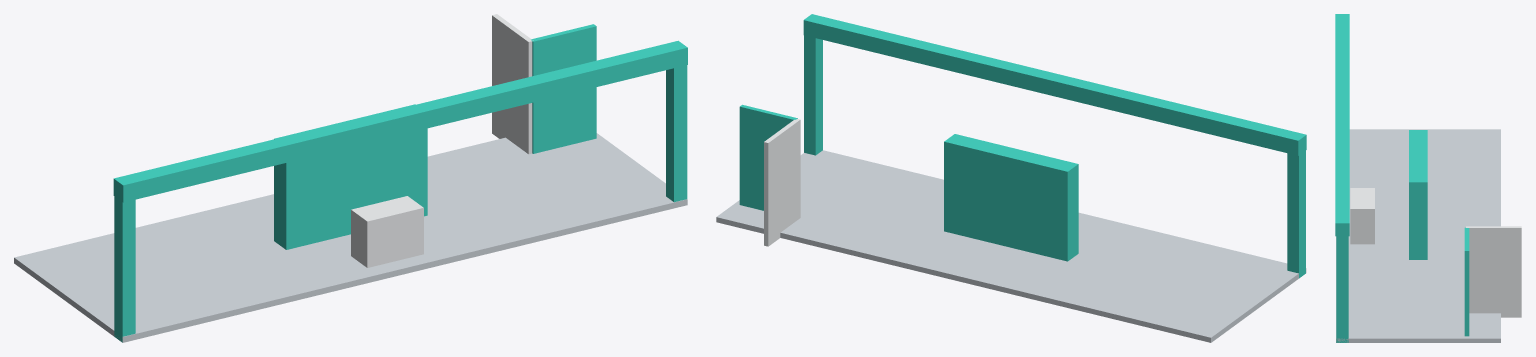
The picture shows the model from 3 angles, left to right: view 1: azimuth 30°, elevation 25°; view 2: azimuth 150°, elevation 25°; view 3: azimuth 270°, elevation 25°; orthographic projection. The views are drawn at different scales.
Parts seen in each view (by area): view 1: Exhibition Booth Concept; view 2: Exhibition Booth Concept; view 3: Exhibition Booth Concept.
Part boxes in pixels (bbox=[...]): Exhibition Booth Concept: bbox=[14, 14, 687, 342]; Exhibition Booth Concept: bbox=[716, 14, 1306, 342]; Exhibition Booth Concept: bbox=[1335, 14, 1521, 342].
Size of the model in its own units: 12 by 3.2 by 4.52.
